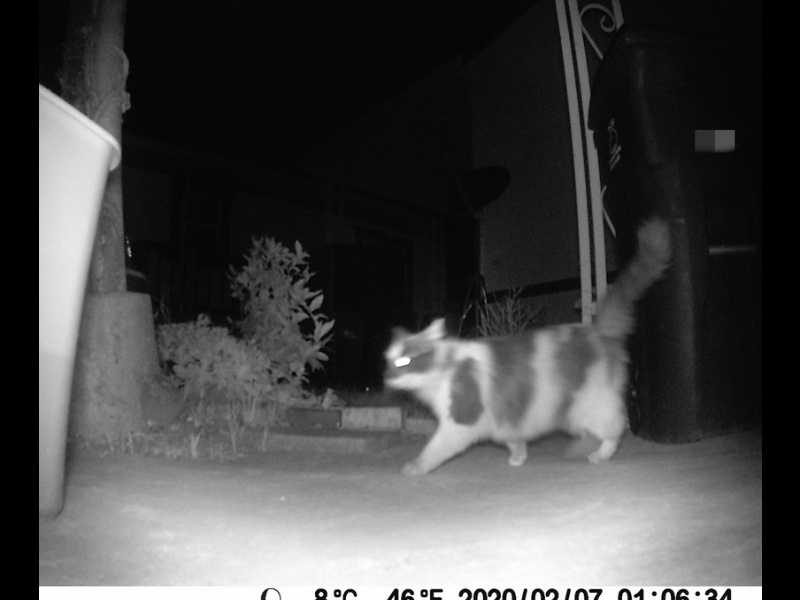cat: (382, 214, 676, 484)
